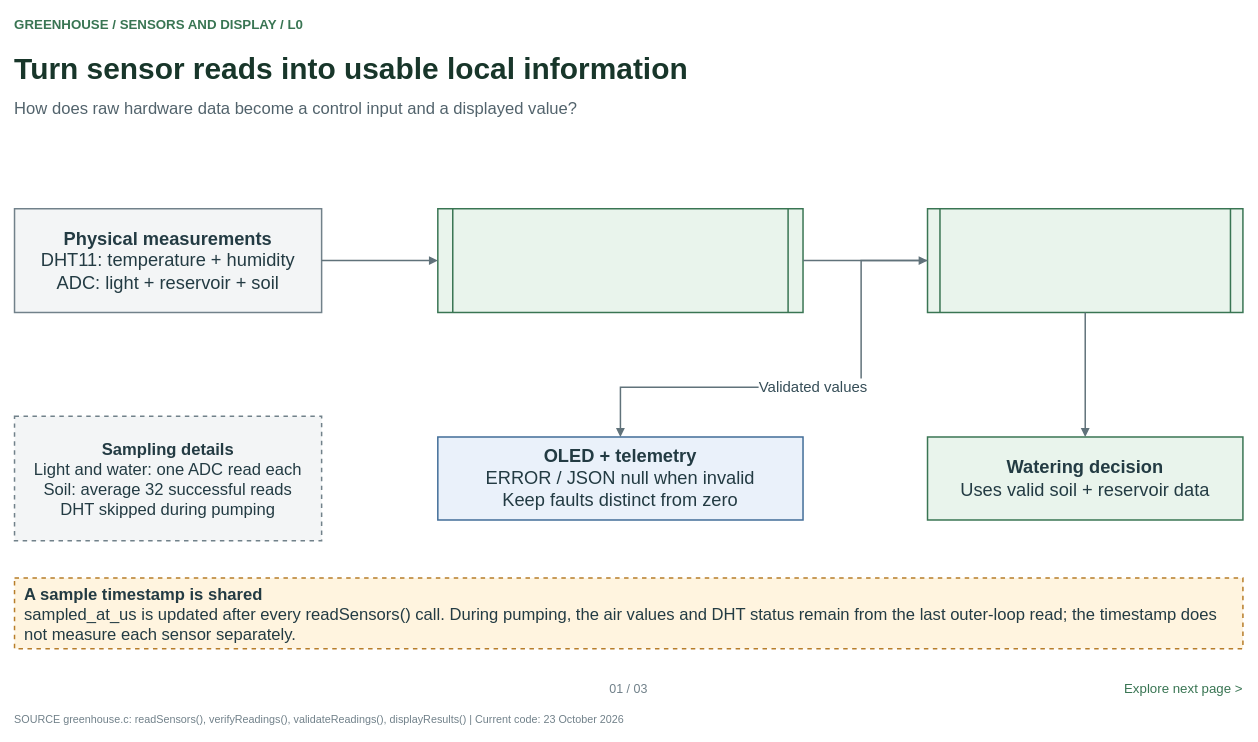
Image size: 1258x742. Some labels were removed from this diagram. Here are the shapes that lost their labels. From the top down, the centre of each, then its label:
At point 620,260: "readSensors() Store successful values Store each driver result".
At point 1084,260: "validateReadings() Validity flags, percentages water_low and activate_pump".
